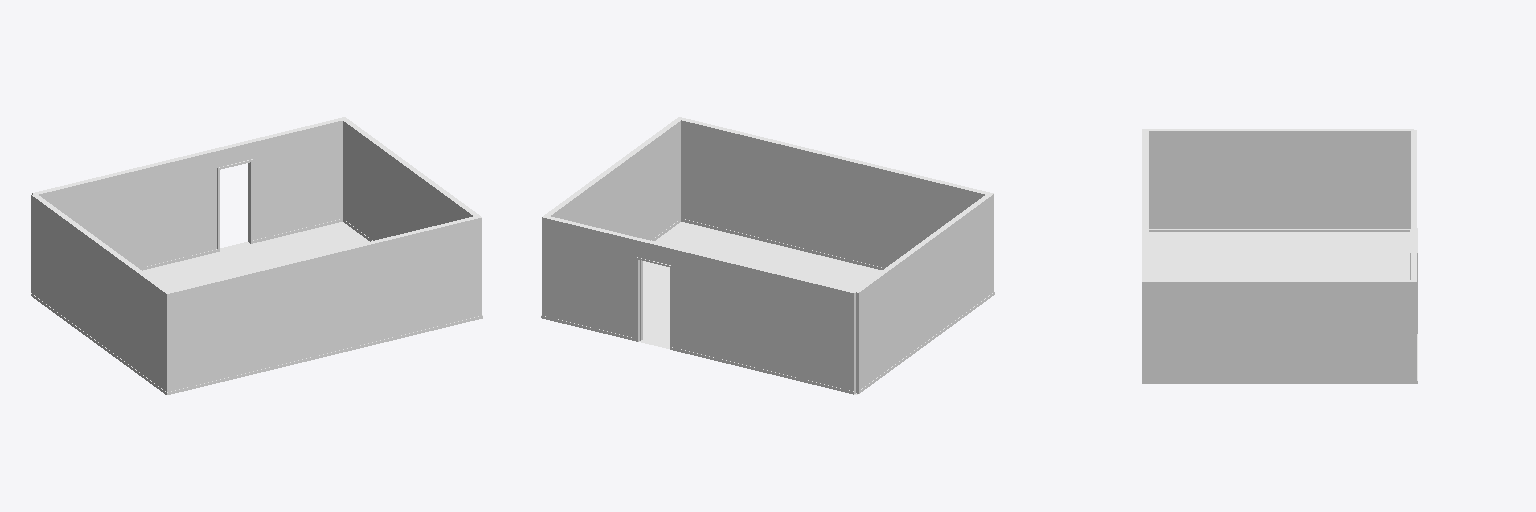
Rendered from piece01.obj.
3 views of the same model, side by side, from view 1: azimuth 30°, elevation 25°; view 2: azimuth 150°, elevation 25°; view 3: azimuth 270°, elevation 25° (orthographic).
Parts seen in each view (by area): view 1: wall_3_16, wall_5_31, wall_2_8, wall_4_23, room_1_2, wall_3_14, Montant_1; view 2: wall_5_32, wall_3_15, wall_2_8, wall_4_23, room_1_2, wall_5_30, Montant_1, wall_3_13; view 3: wall_4_24, wall_2_7, room_1_2, wall_4_22, wall_2_5, wall_3_18.
Part boxes in pixels (x1,y1,x2,y2): wall_3_16: (167, 218, 481, 391); wall_5_31: (39, 121, 342, 267); wall_2_8: (31, 195, 166, 391); wall_4_23: (343, 121, 472, 240); room_1_2: (143, 222, 369, 290); wall_3_14: (167, 316, 482, 394); Montant_1: (217, 159, 252, 251); wall_5_32: (542, 217, 855, 393); wall_3_15: (681, 120, 984, 267); wall_2_8: (856, 194, 993, 393); wall_4_23: (551, 121, 680, 240); room_1_2: (639, 222, 881, 394); wall_5_30: (541, 315, 853, 394); Montant_1: (637, 257, 671, 349); wall_3_13: (681, 219, 884, 269); wall_4_24: (1142, 282, 1416, 380); wall_2_7: (1149, 131, 1410, 228); room_1_2: (1149, 232, 1409, 279); wall_4_22: (1142, 381, 1417, 383); wall_2_5: (1149, 229, 1410, 231); wall_3_18: (1142, 129, 1145, 281).
Size of the model in its own units: 819 by 250 by 619.